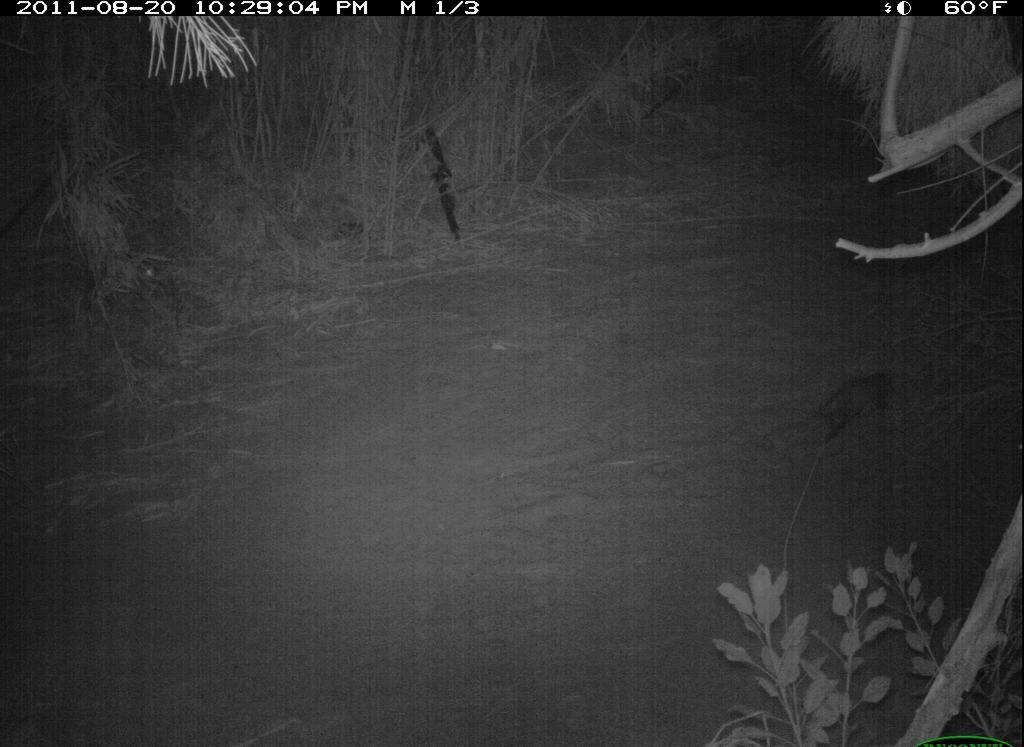opossum: (806, 354, 929, 447)
